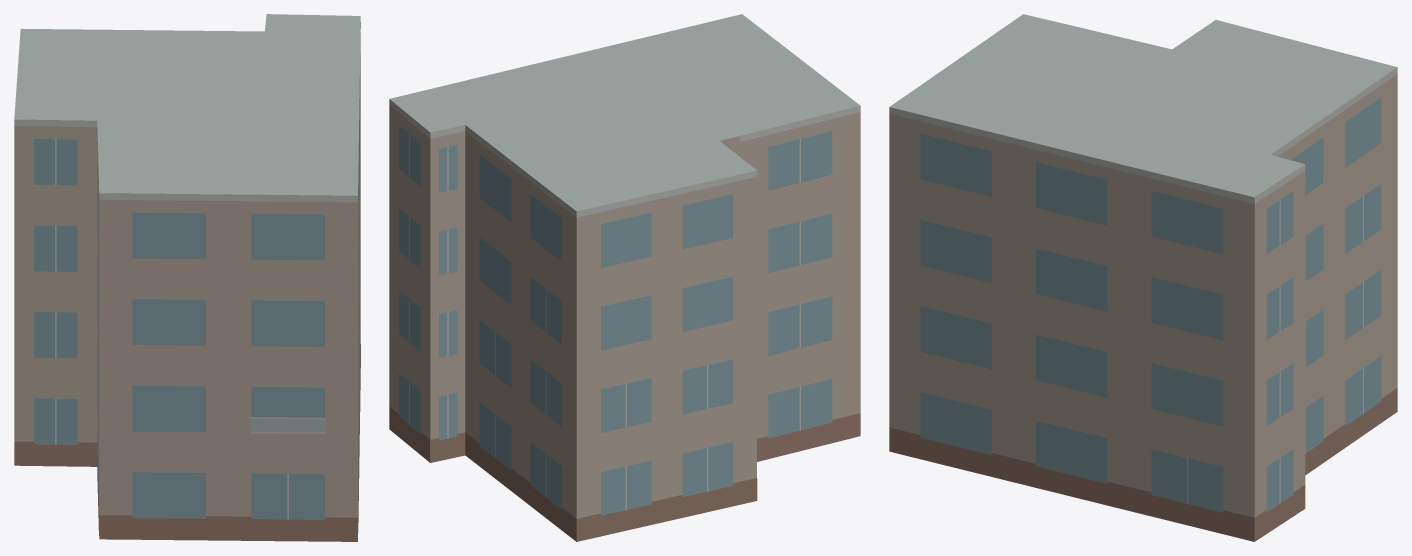
The model's file is survey-upis-32734281.glb.
3 renders of one model, left to right at view 1: azimuth 30°, elevation 25°; view 2: azimuth 150°, elevation 25°; view 3: azimuth 270°, elevation 25°, orthographic. The views are drawn at different scales.
Parts seen in each view (by area): view 1: survey-upis-32734281.tmp; view 2: survey-upis-32734281.tmp; view 3: survey-upis-32734281.tmp.
Boxes of the visible parts, left/top/right/bottom form: survey-upis-32734281.tmp: left=14, top=14, right=360, bottom=541; survey-upis-32734281.tmp: left=389, top=14, right=860, bottom=541; survey-upis-32734281.tmp: left=889, top=14, right=1397, bottom=541.
Bounding box in the file's own units: 14.62 × 12.8 × 17.13.
